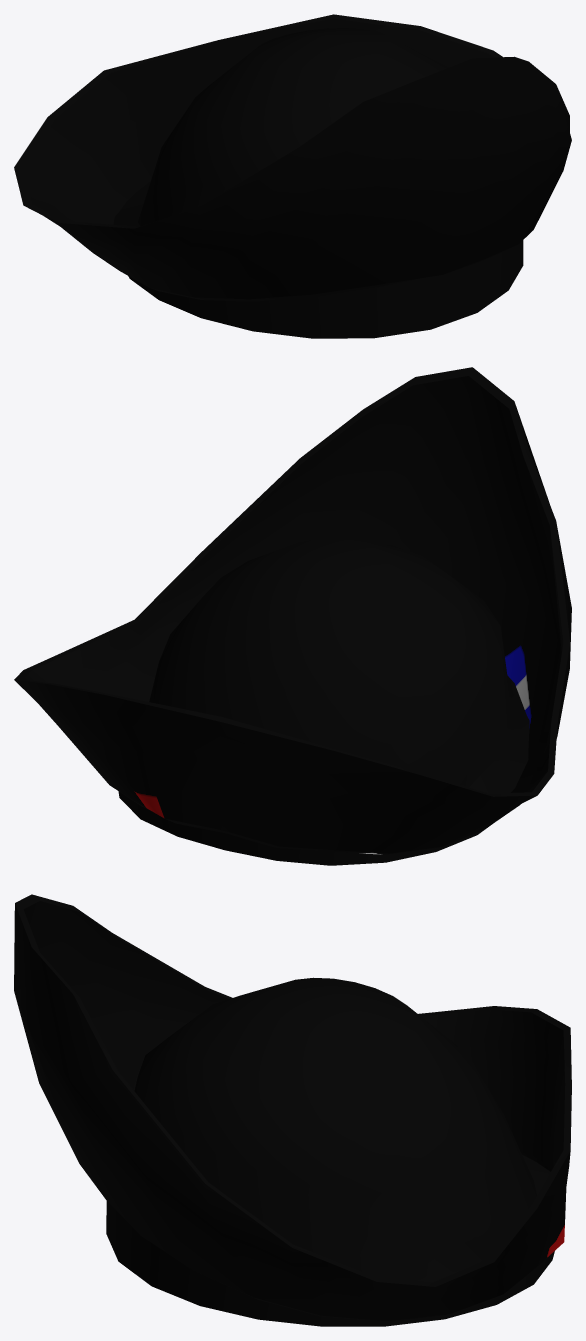
File: piratehat.fbx
3 views of the same model, one above another, from view 1: azimuth 30°, elevation 25°; view 2: azimuth 150°, elevation 25°; view 3: azimuth 270°, elevation 25° (orthographic). The views are drawn at different scales.
Visible parts, largest first — view 1: Sphere; view 2: Sphere; view 3: Sphere.
Boxes of the visible parts, <box> form: Sphere: <box>14,14,571,338</box>; Sphere: <box>14,367,571,865</box>; Sphere: <box>14,894,571,1326</box>.
Size of the model in its own units: 145 by 81.12 by 124.
1 material, 1 textured.
